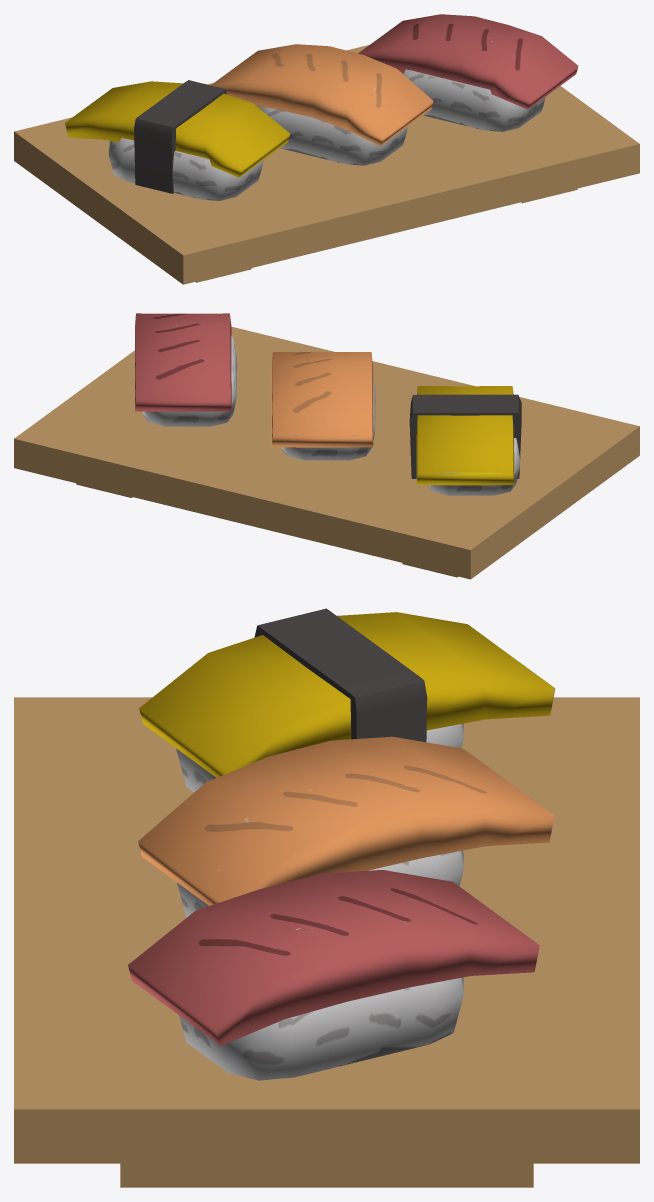
The model's file is Sushi.fbx.
3 renders of one model, top to bottom at view 1: azimuth 30°, elevation 25°; view 2: azimuth 150°, elevation 25°; view 3: azimuth 270°, elevation 25°, orthographic. The views are drawn at different scales.
Visible parts, largest first — view 1: Geat, Tuna, Salmon, egg, Nori, Sushi_rice_B, Sushi_rice_B1, Sushi_rice_B2; view 2: Geat, Tuna, Salmon, egg, Nori, Sushi_rice_B, Sushi_rice_B1, Sushi_rice_B2; view 3: Geat, Tuna, Salmon, egg, Sushi_rice_B, Nori, Sushi_rice_B1, Sushi_rice_B2.
Part boxes in pixels (x1,y1,x2,y2): Geat: [14, 44, 639, 284]; Tuna: [211, 44, 433, 146]; Salmon: [358, 14, 578, 109]; egg: [65, 81, 290, 177]; Nori: [134, 80, 226, 193]; Sushi_rice_B: [403, 69, 545, 131]; Sushi_rice_B1: [256, 105, 408, 165]; Sushi_rice_B2: [108, 138, 263, 200]; Geat: [14, 327, 639, 579]; Tuna: [271, 352, 373, 447]; Salmon: [135, 313, 231, 411]; egg: [416, 386, 514, 485]; Nori: [409, 394, 521, 478]; Sushi_rice_B: [142, 336, 236, 426]; Sushi_rice_B1: [281, 380, 375, 460]; Sushi_rice_B2: [427, 438, 519, 495]; Geat: [14, 697, 639, 1187]; Tuna: [138, 736, 554, 905]; Salmon: [128, 870, 539, 1045]; egg: [139, 612, 555, 777]; Sushi_rice_B: [179, 977, 463, 1080]; Nori: [254, 608, 427, 742]; Sushi_rice_B1: [177, 850, 463, 917]; Sushi_rice_B2: [176, 723, 463, 792].
Bounding box in the file's own units: 89.16 × 23.28 × 57.24.
